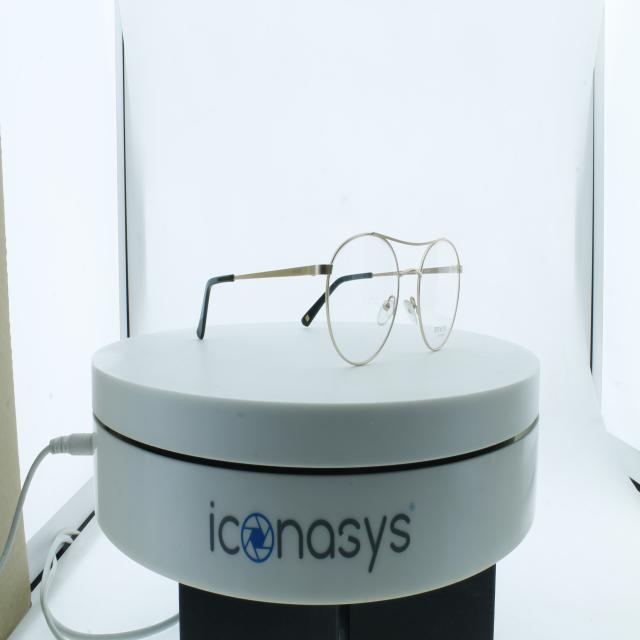Specs: (181, 214, 472, 378)
